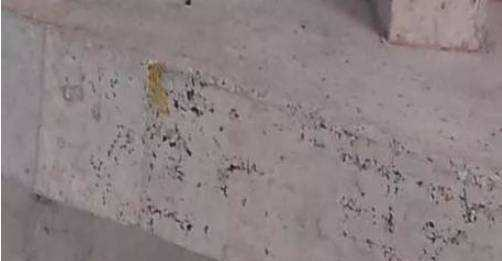Corrosion: (145, 63, 169, 111)
Spalling: (87, 61, 502, 261)
